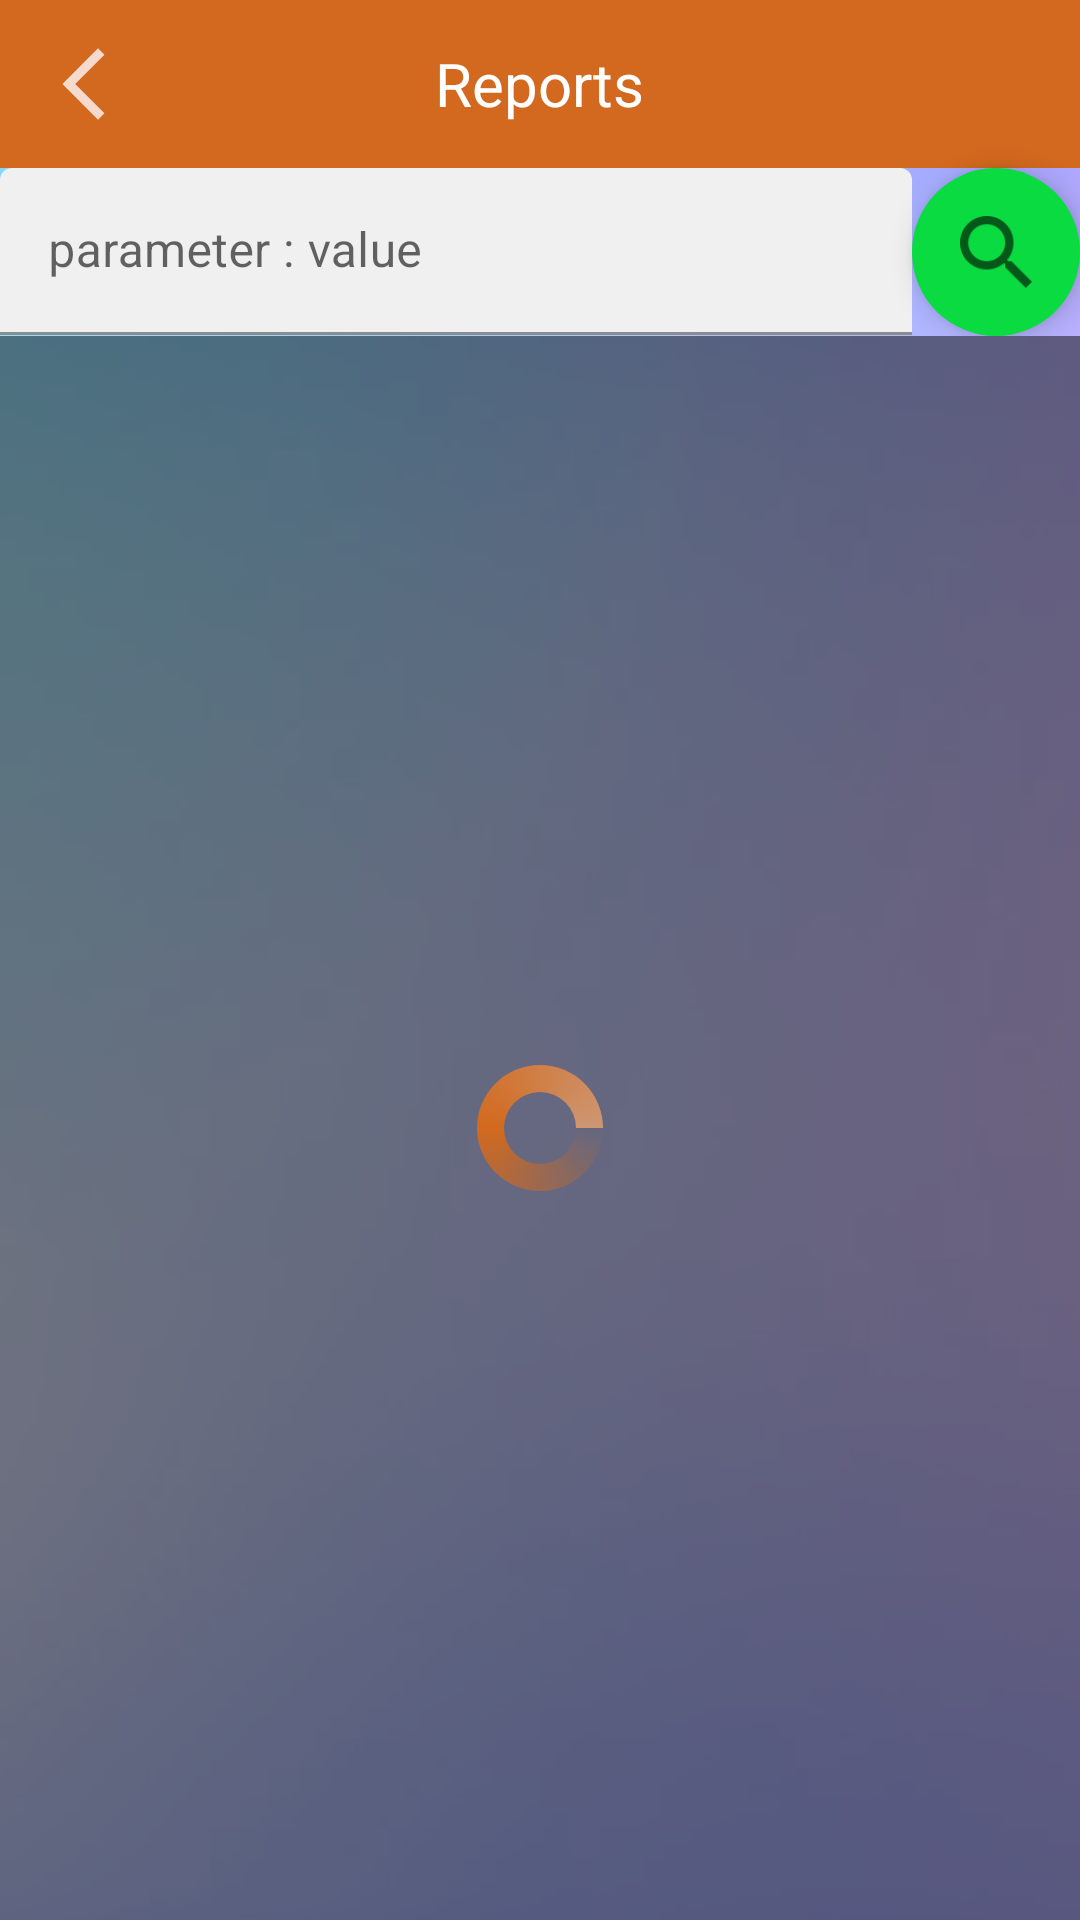

Where to tap for icons on this 1080×1920 app screen, as point (x, y):
back: point (83, 84)
search: point (996, 252)
